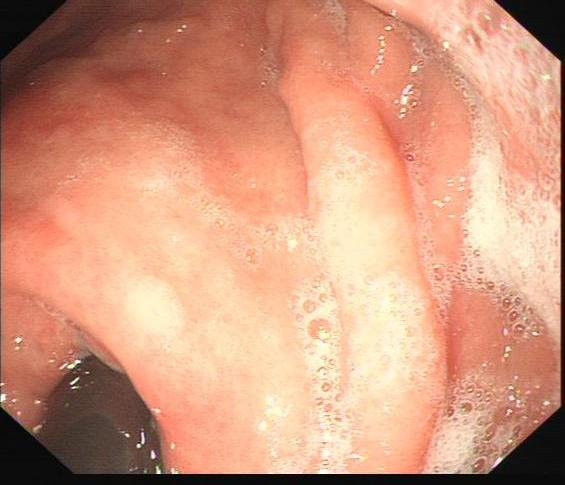Polyp: (126, 276, 190, 330)
